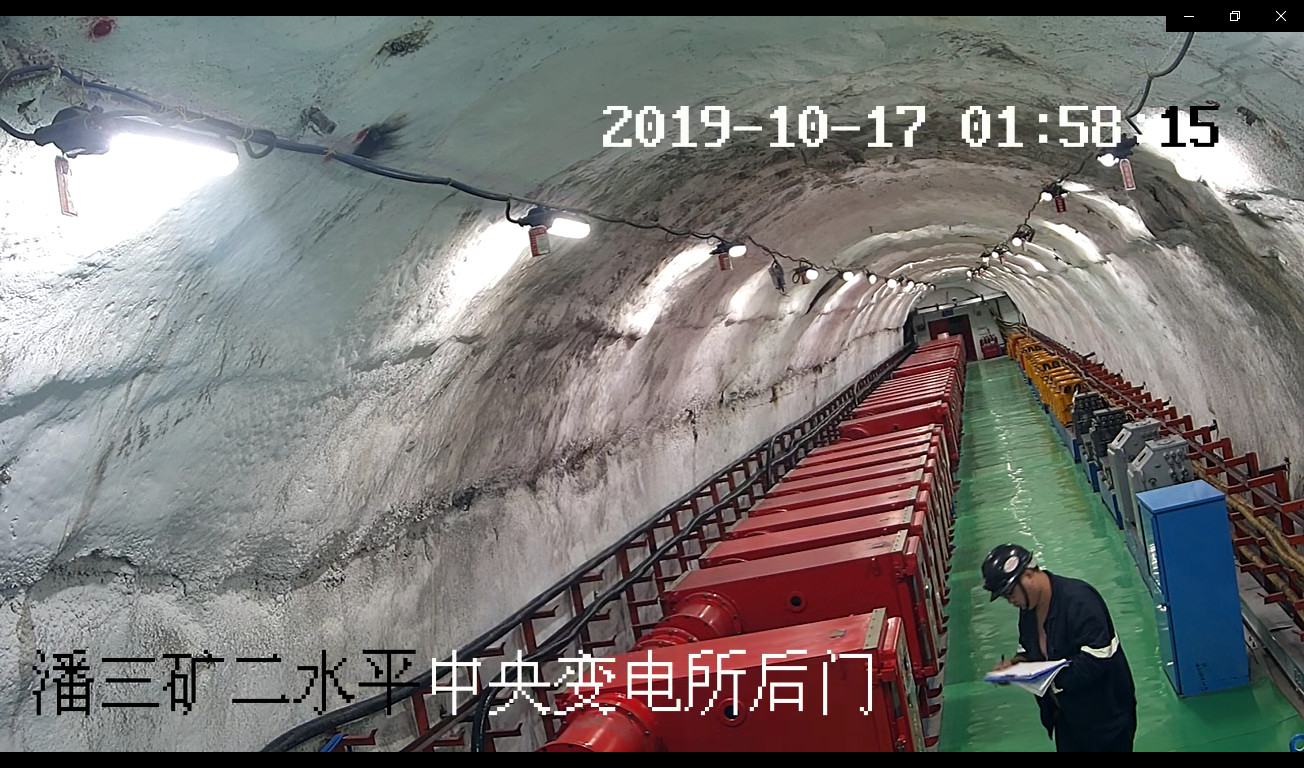helmet: (981, 543, 1033, 603)
